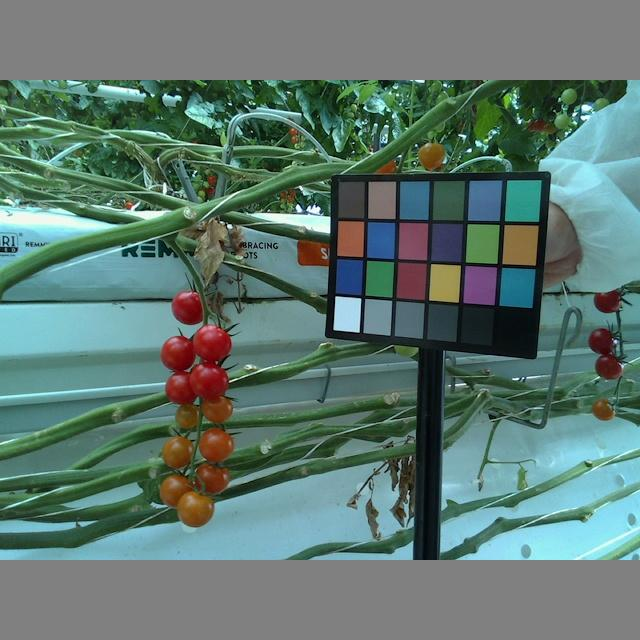pink: (191, 461, 229, 497), (177, 491, 214, 526), (159, 474, 195, 509), (199, 427, 234, 462), (162, 435, 196, 469), (200, 392, 232, 423), (417, 141, 448, 171), (173, 402, 201, 430), (592, 398, 615, 420)
red: (191, 325, 232, 363), (187, 364, 230, 399), (172, 291, 211, 325), (165, 370, 201, 406), (161, 335, 197, 370), (593, 286, 621, 317), (588, 326, 615, 356), (594, 354, 624, 381)
